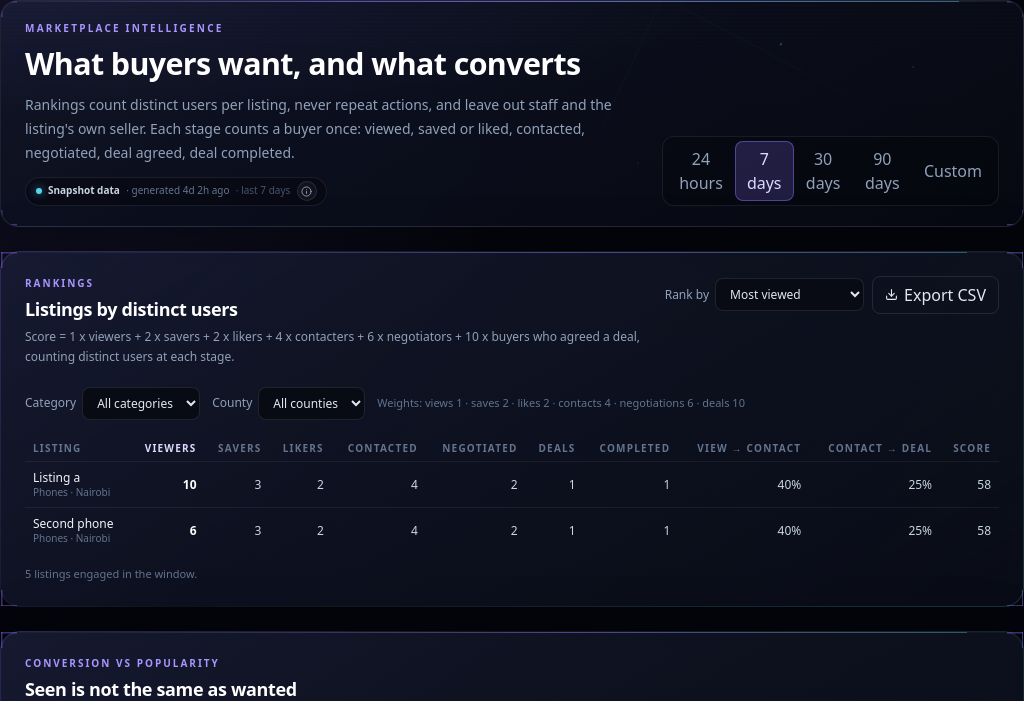
Test: MarketView rankings › switches to the negotiation and conversion rankings
Select "Most negotiated" in the dropdown named "Ranking": (790, 295) [715, 278, 864, 311]
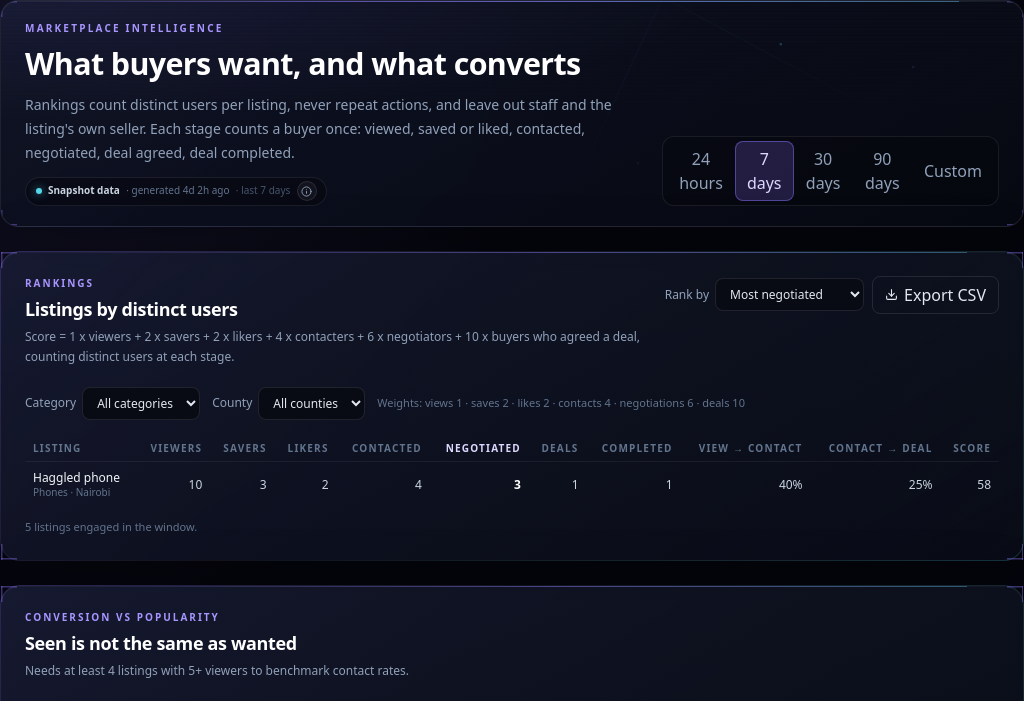
expect the table named "most negotiated" shows "Haggled phone": met, box [33, 470, 120, 486]
Select "Growing fastest" in the dropdown named "Ranking": (790, 295) [715, 278, 864, 311]
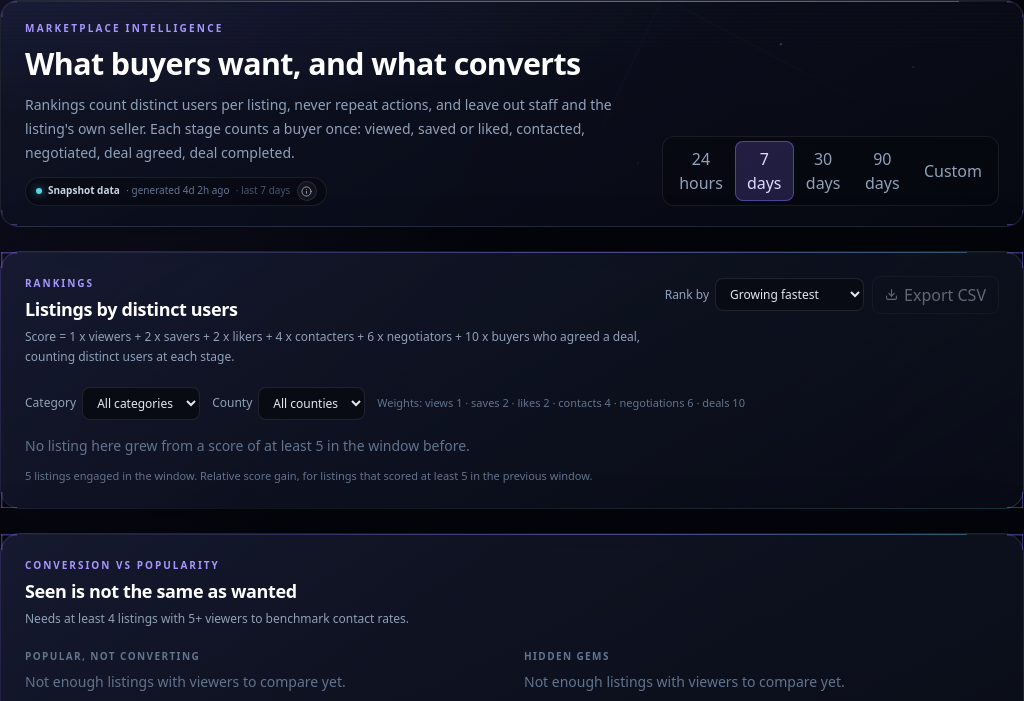
expect the text "No listing here grew from a score of at least 5 in the window before." is shown: met, box [25, 436, 470, 455]
